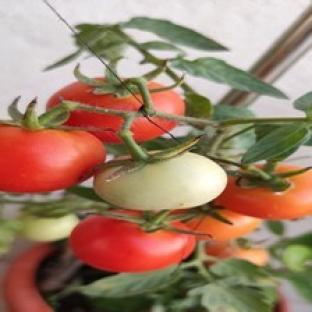Tomato: (94, 152, 227, 210), (70, 216, 194, 272), (0, 126, 105, 192), (215, 170, 311, 220), (2, 244, 54, 311), (48, 81, 142, 111), (187, 209, 261, 239), (20, 215, 79, 242), (205, 241, 268, 266)
